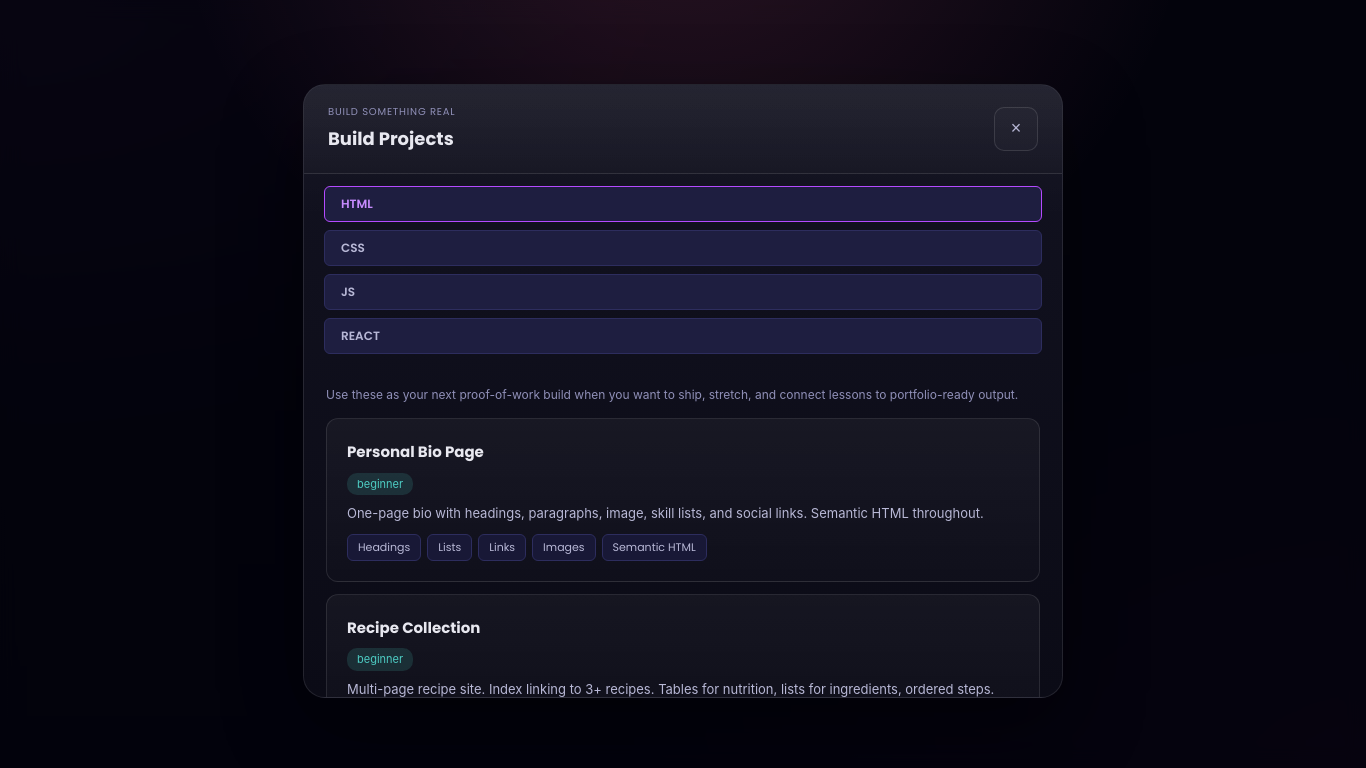
Test: ProjectsPanel › updates the active project track without changing the learner path
Step 1. Click the button with aria-label "show react projects" → (360, 336), box [324, 318, 1042, 354]
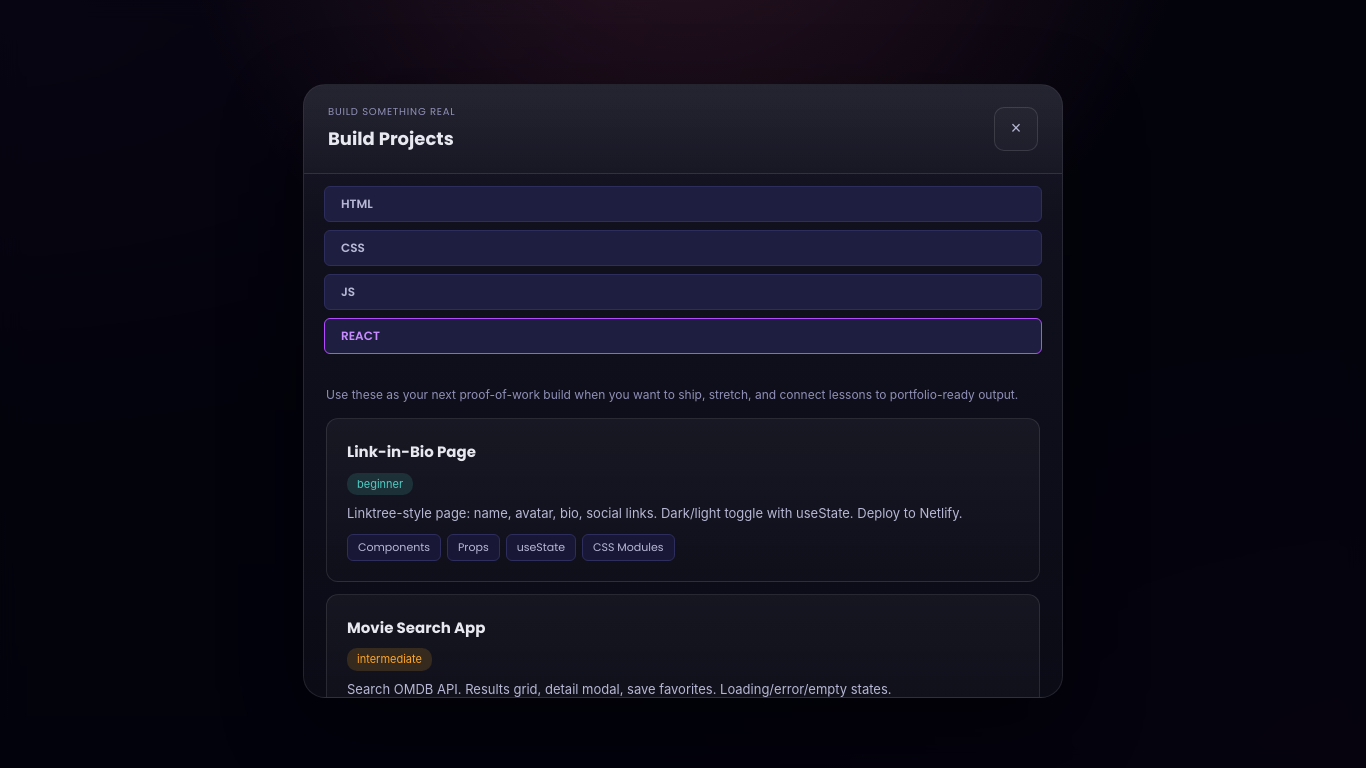
Result: the element named "react project ideas" is shown at [304, 366, 1062, 698]
Result: the heading "Link-in-Bio Page" is shown at [347, 441, 476, 462]
